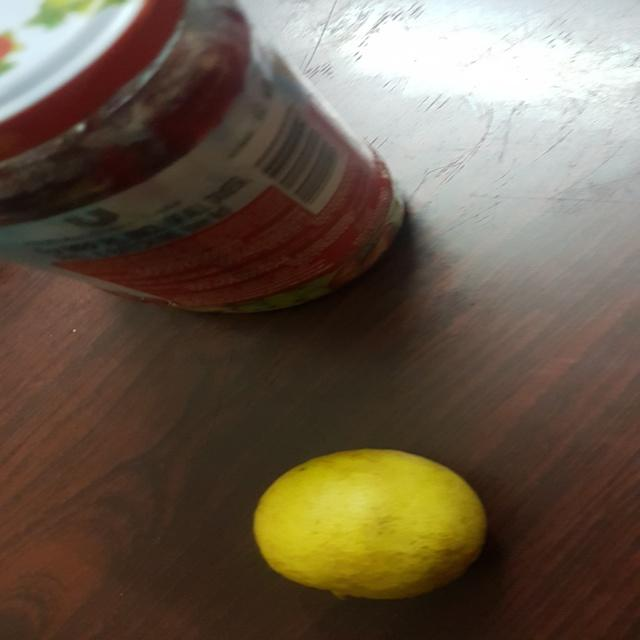lemon: (239, 440, 504, 606)
